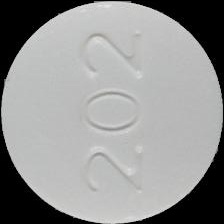31722-202: (0, 0, 224, 224)
